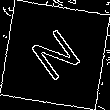N_SE: (24, 23, 86, 87)
